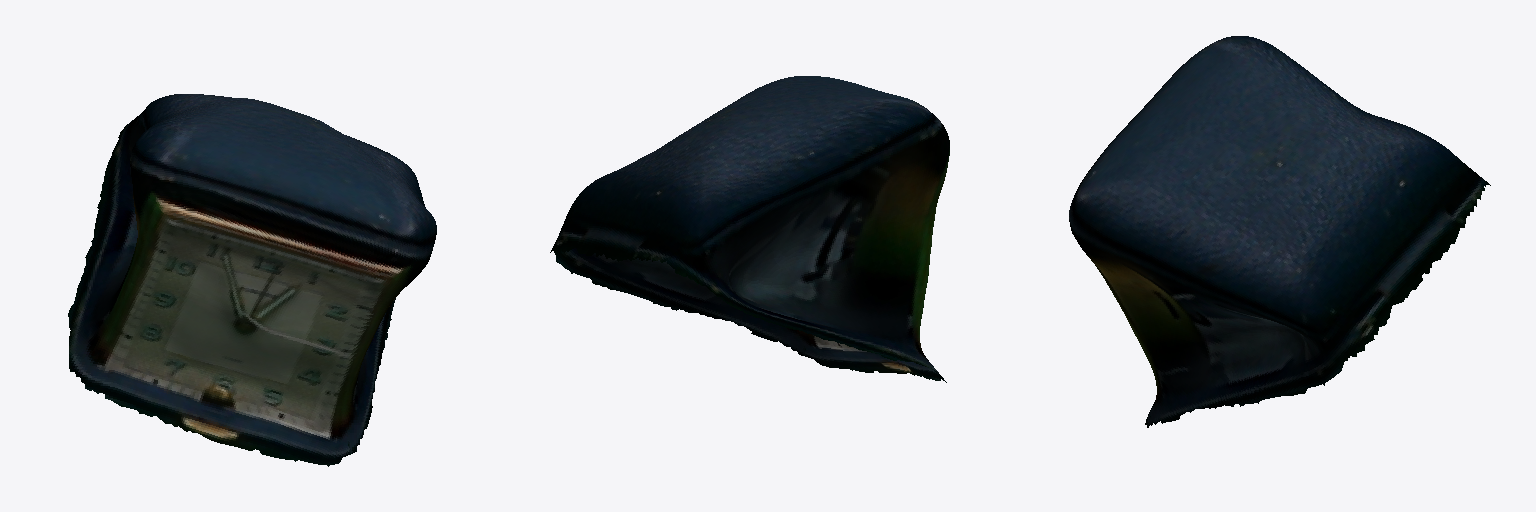
3 views of the same model, side by side, from view 1: azimuth 30°, elevation 25°; view 2: azimuth 150°, elevation 25°; view 3: azimuth 270°, elevation 25° (orthographic).
Bounding box in the file's own units: 0.3038 × 0.2621 × 0.3073.
1 materials, 1 textured.